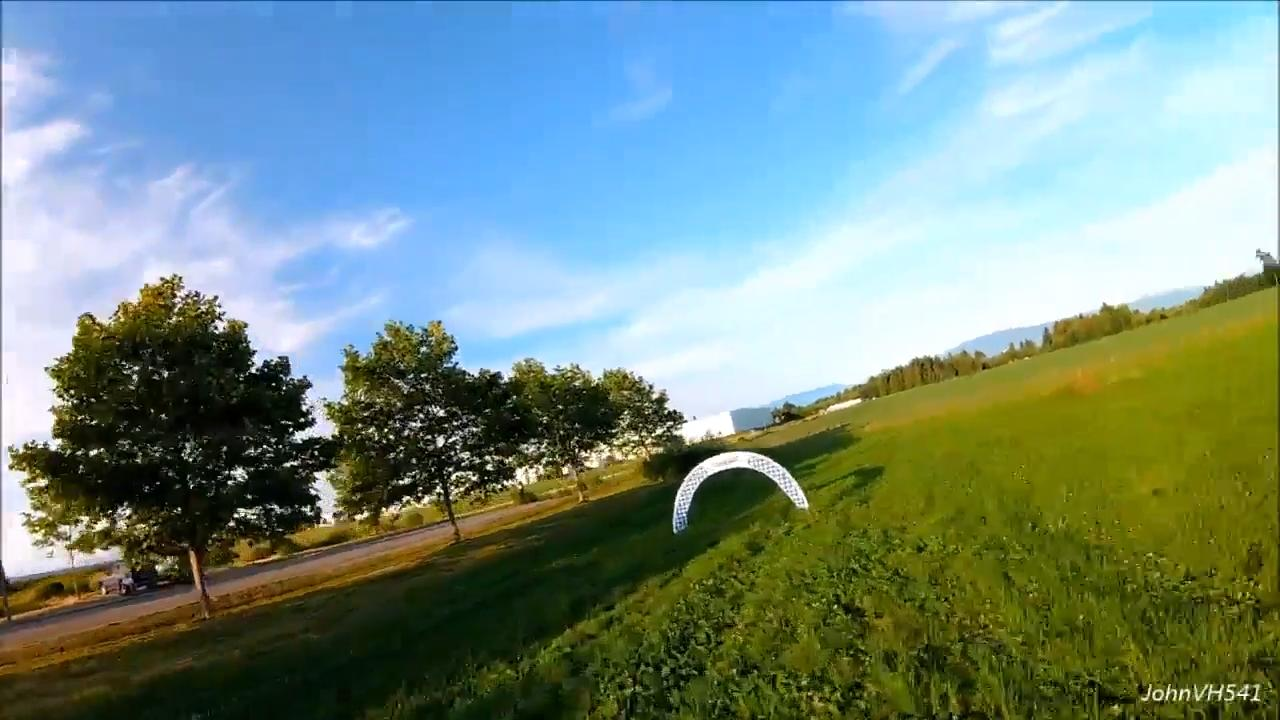gate: (672, 451, 810, 533)
